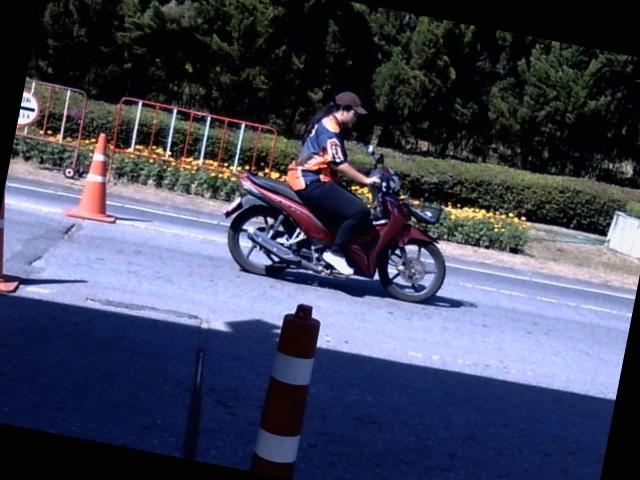motor: (344, 154, 445, 300), (224, 170, 348, 277)
no-helmet: (327, 90, 366, 126)
person: (287, 90, 379, 273)
